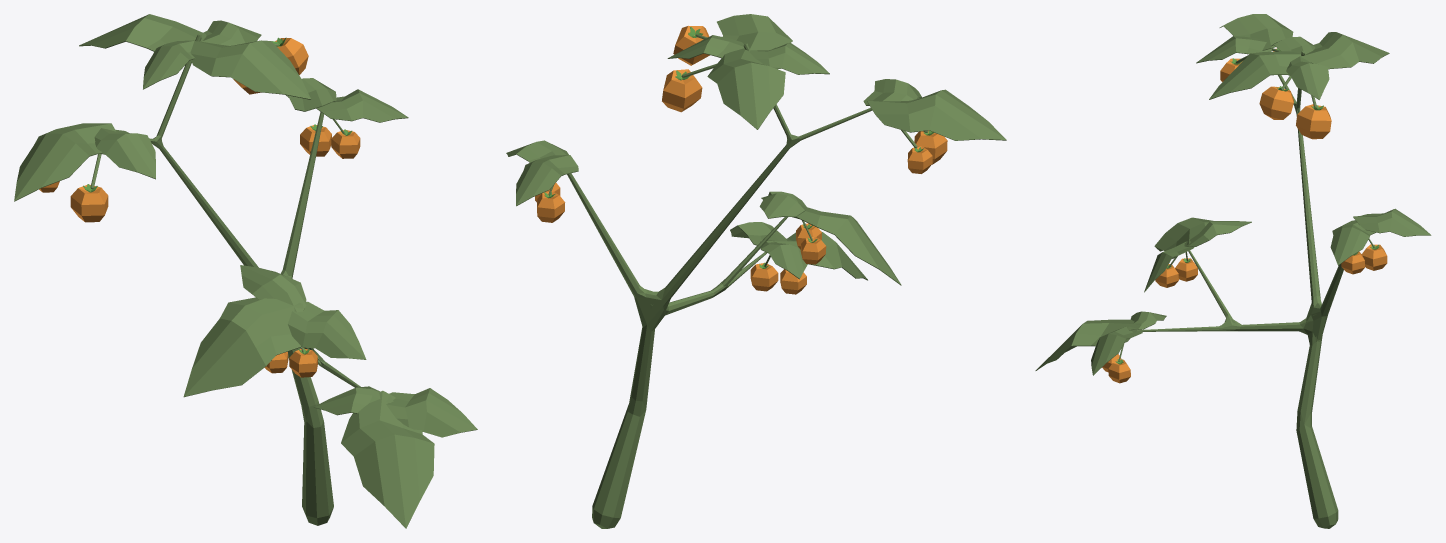
The model's file is plant10.fbx.
3 renders of one model, left to right at view 1: azimuth 30°, elevation 25°; view 2: azimuth 150°, elevation 25°; view 3: azimuth 270°, elevation 25°, orthographic. The views are drawn at different scales.
Parts seen in each view (by area): view 1: Plane.057; view 2: Plane.057; view 3: Plane.057.
Boxes of the visible parts, bbox=[...] form: Plane.057: bbox=[14, 14, 477, 528]; Plane.057: bbox=[506, 14, 1006, 528]; Plane.057: bbox=[1035, 14, 1431, 528].
Bounding box in the file's own units: 0.4414 × 0.492 × 0.4114.
